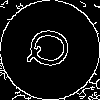Q: (25, 25, 80, 73)
